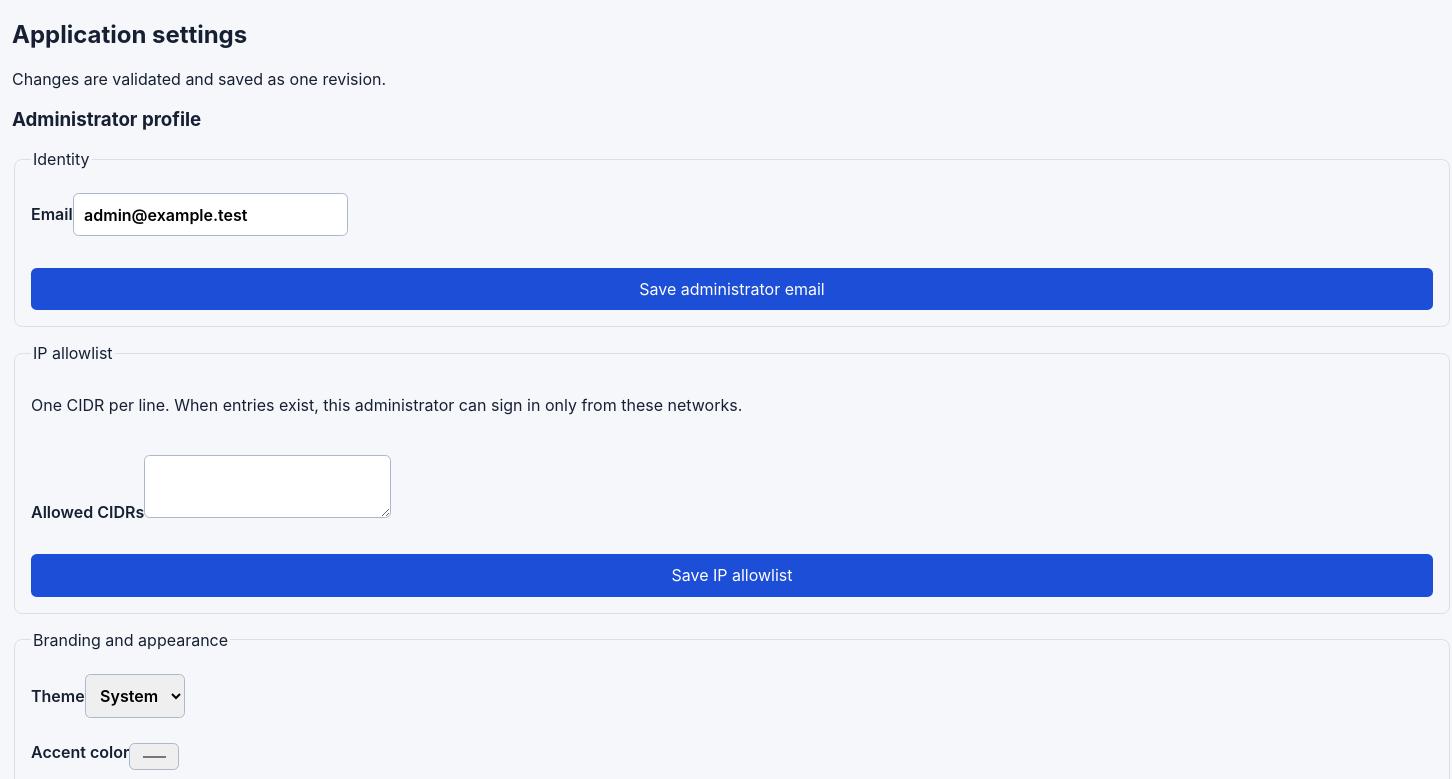
Test: application settings › serializes IP allowlist saves until the active security policy write settles
In the text box labelled "Allowed CIDRs": (268, 487) [144, 455, 391, 518], type "10.0.0.0/8"
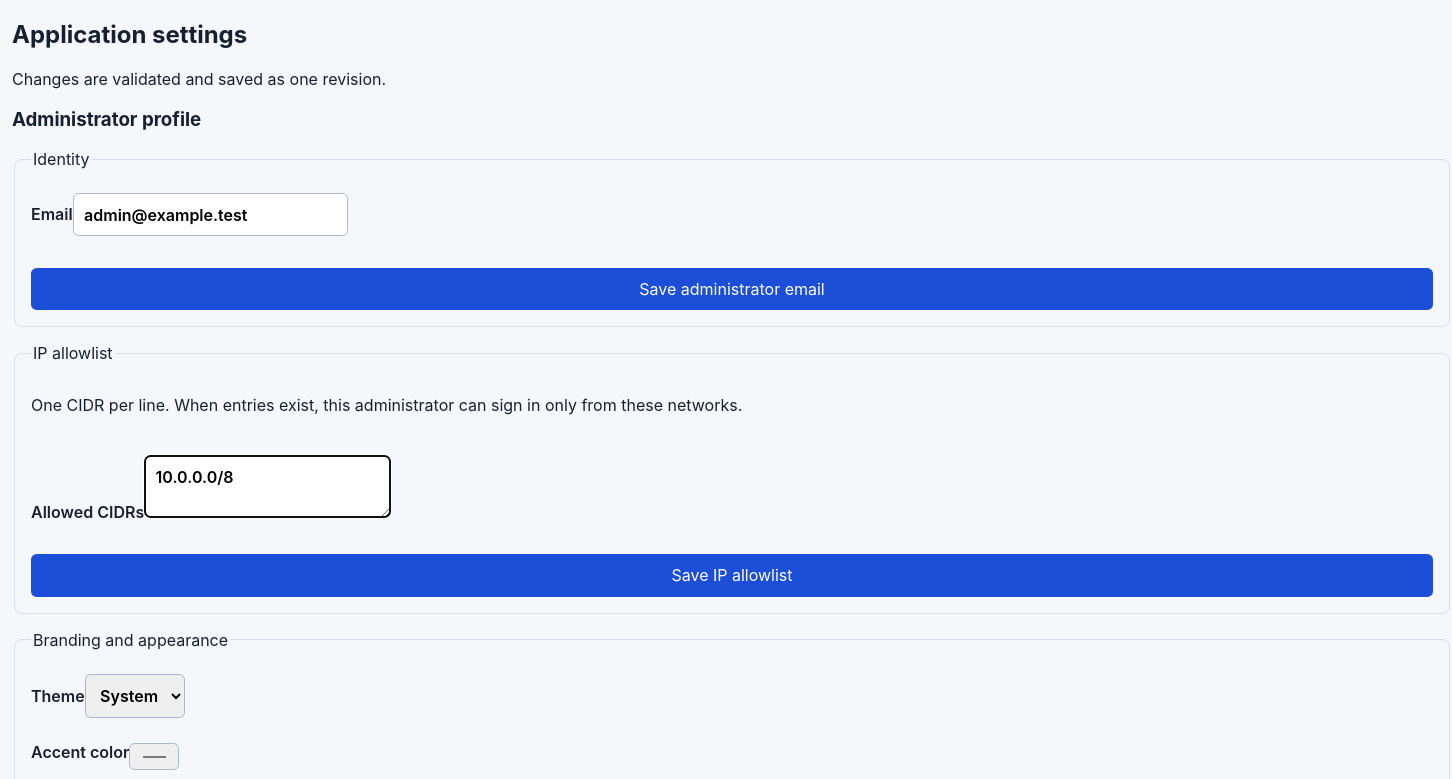
Click the button "Save IP allowlist": click(732, 575) [31, 554, 1433, 597]
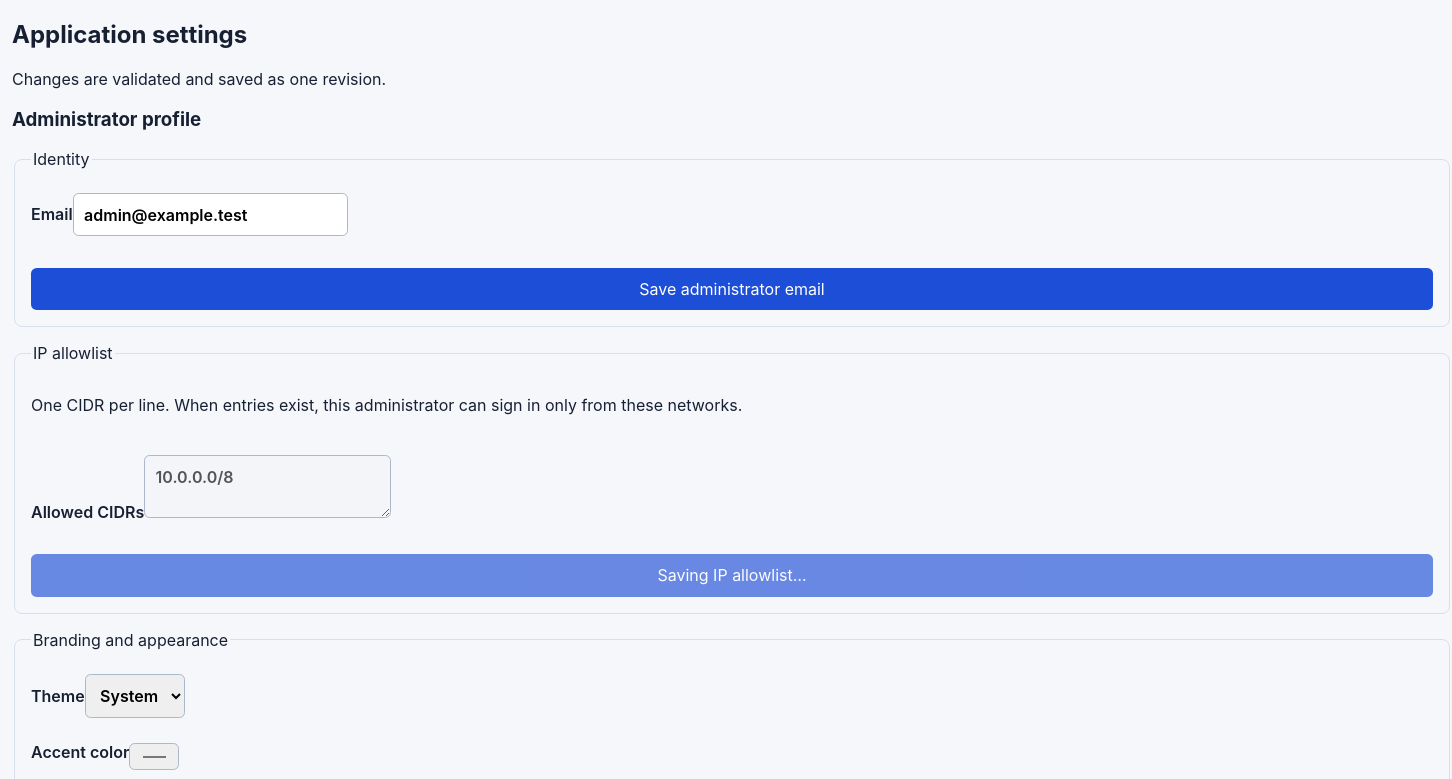
Check: the text box labelled "Allowed CIDRs" is disabled, box [144, 455, 391, 518]
Check: the button "Saving IP allowlist…" is disabled
Click the button "Saving IP allowlist…": click(732, 575) [31, 554, 1433, 597]
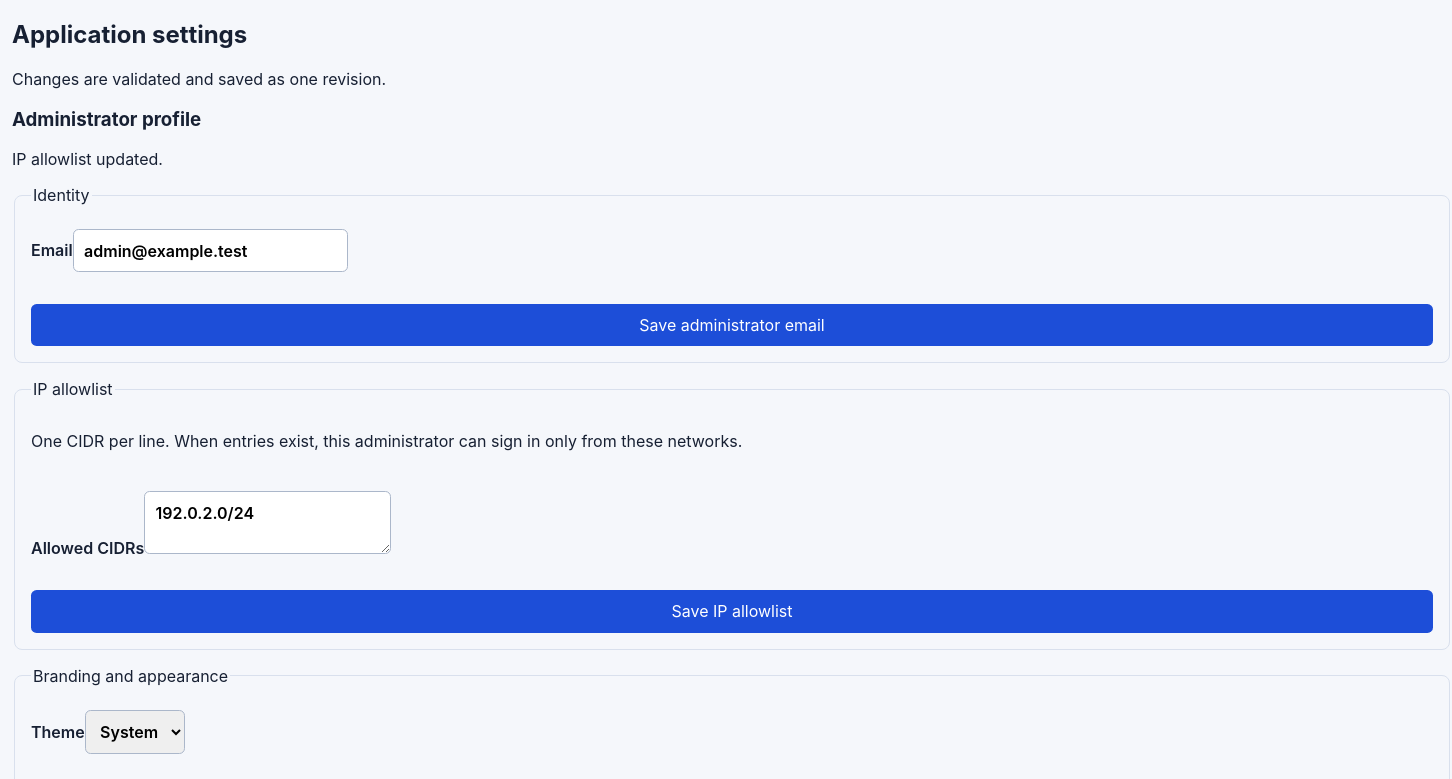
Check: the text box labelled "Allowed CIDRs" holds "192.0.2.0/24", box [144, 491, 391, 554]
